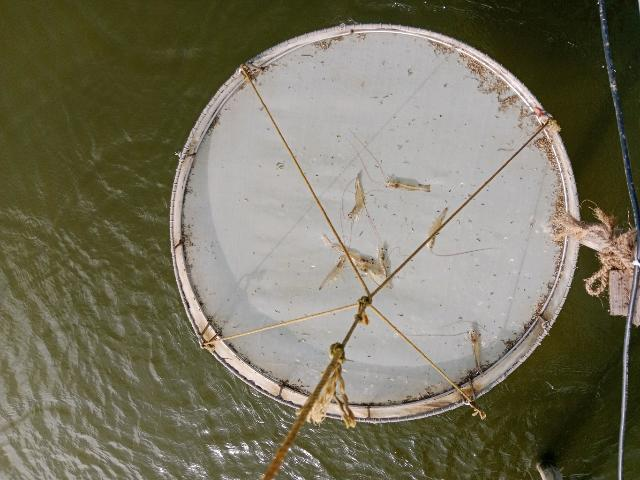shrimp: (322, 233, 386, 288), (335, 243, 378, 267), (348, 171, 367, 220), (320, 255, 346, 289), (375, 246, 393, 290), (428, 208, 447, 249), (384, 174, 430, 190), (470, 327, 481, 372)
